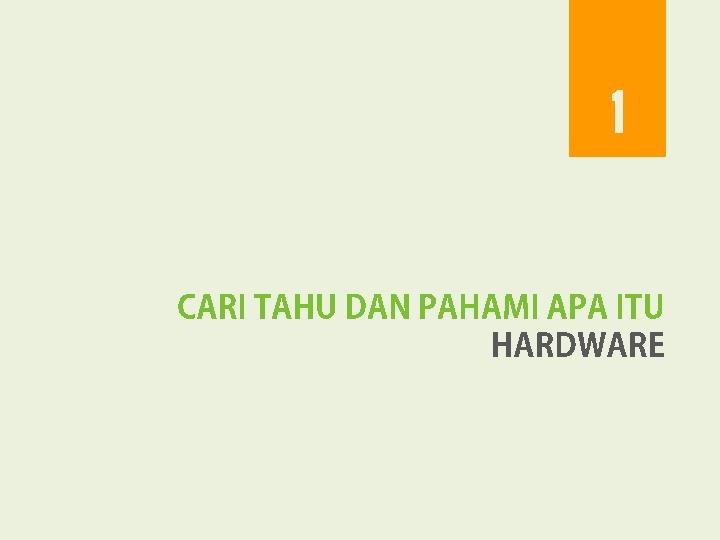title: (175, 245, 679, 384)
